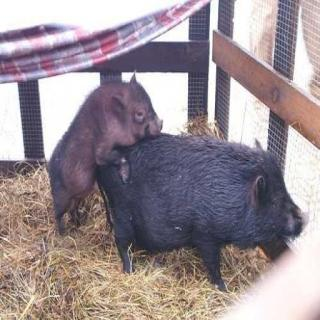Pig: (92, 108, 320, 320)
